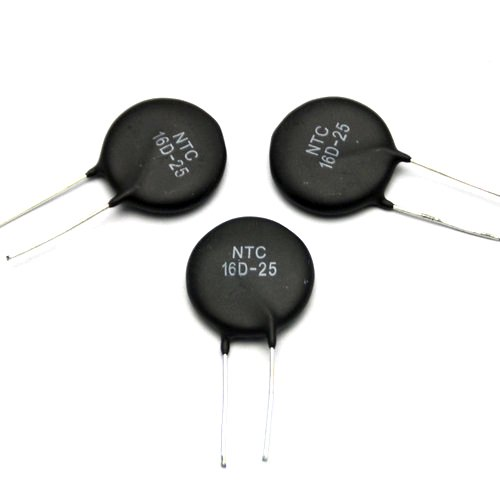capacitor: (65, 58, 241, 230), (243, 70, 433, 224), (170, 206, 331, 383)
